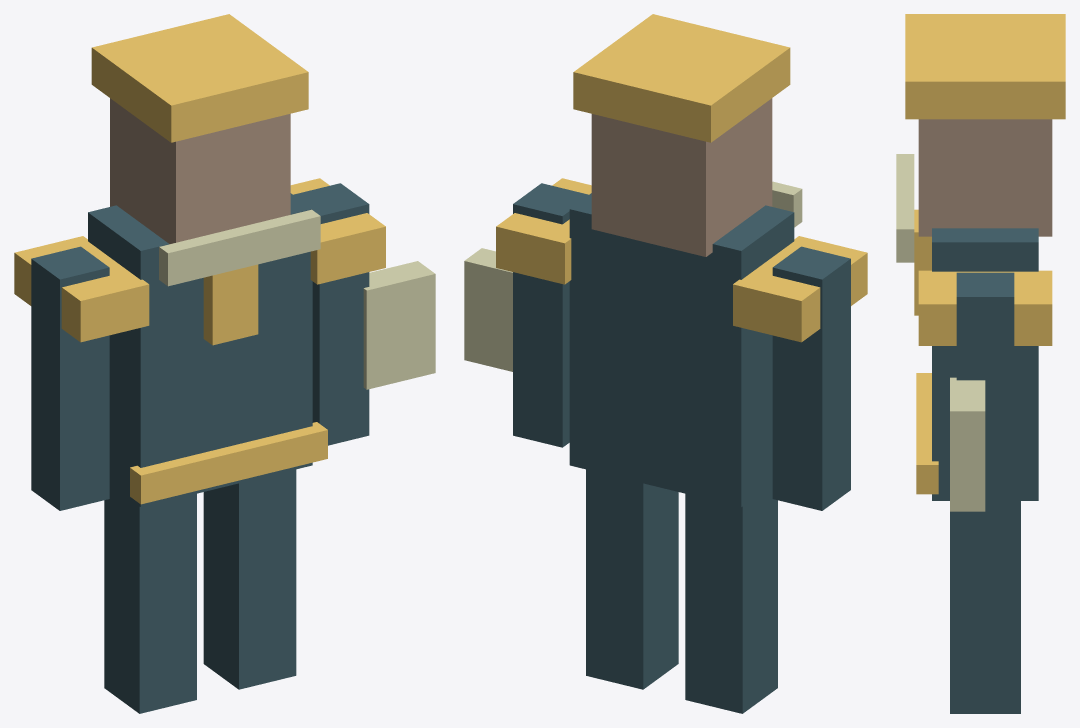
Rendered from 02_selka_ironwake_diver_near_adaptive.glb.
3 views of the same model, side by side, from view 1: azimuth 30°, elevation 25°; view 2: azimuth 150°, elevation 25°; view 3: azimuth 270°, elevation 25° (orthographic).
Parts seen in each view (by area): view 1: Selka Ironwake, Diver near Adaptive; view 2: Selka Ironwake, Diver near Adaptive; view 3: Selka Ironwake, Diver near Adaptive.
Part boxes in pixels (box(x1,y1,x2,y2)): Selka Ironwake, Diver near Adaptive: box(14, 14, 435, 713); Selka Ironwake, Diver near Adaptive: box(464, 14, 867, 713); Selka Ironwake, Diver near Adaptive: box(896, 14, 1065, 713).
Bounding box in the file's own units: 0.9352 × 1.49 × 0.3645.
